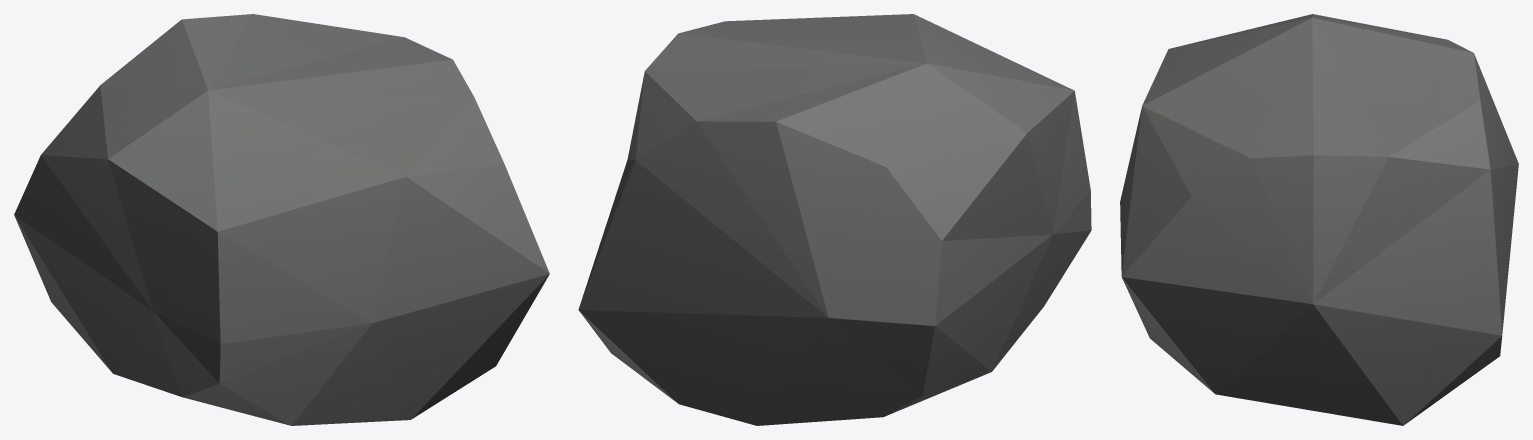
Rendered from peeble.glb.
3 renders of one model, left to right at view 1: azimuth 30°, elevation 25°; view 2: azimuth 150°, elevation 25°; view 3: azimuth 270°, elevation 25°, orthographic. The views are drawn at different scales.
Parts seen in each view (by area): view 1: pebble; view 2: pebble; view 3: pebble.
Boxes of the visible parts, x1,y1,x2,y2 form: pebble: (14,14,549,425); pebble: (578,14,1091,425); pebble: (1120,14,1518,425).
Size of the model in its own units: 0.8581 by 0.6811 by 0.8112.
1 material, 1 textured.
